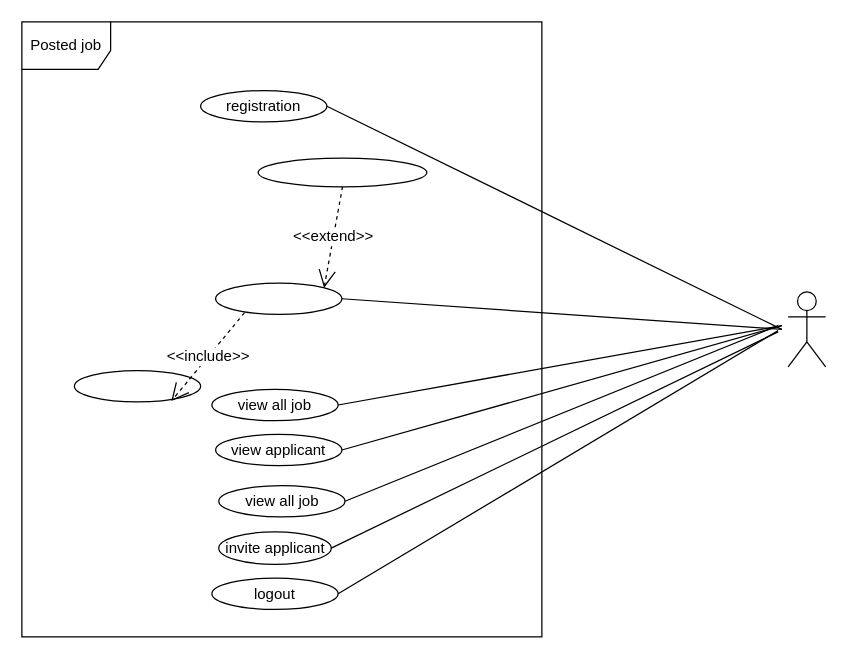
Some shapes in this 859 by 659 pixel diagram are drawn without their labels. The box of each missing label's shape, as (x1, y1, x2, y2) in pixels:
Display error message: (257, 157, 427, 187)
login: (214, 282, 342, 314)
Recruiter: (787, 291, 826, 367)
verify login: (73, 369, 201, 402)
